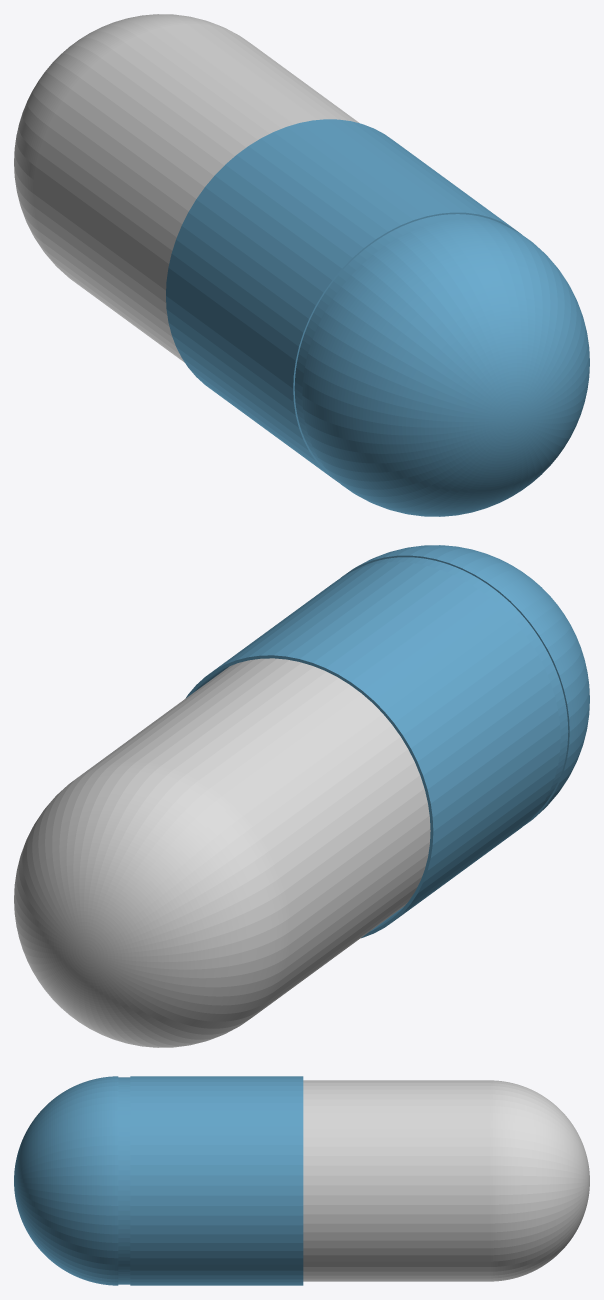
The picture shows the model from 3 angles, top to bottom: view 1: azimuth 30°, elevation 25°; view 2: azimuth 150°, elevation 25°; view 3: azimuth 270°, elevation 25°; orthographic projection. The views are drawn at different scales.
Visible parts, largest first — view 1: capsule_cap, capsule_body; view 2: capsule_body, capsule_cap; view 3: capsule_cap, capsule_body.
Boxes of the visible parts, box(x1,y1,x2,y2) form: capsule_cap: box(166, 119, 589, 516); capsule_body: box(14, 14, 359, 362); capsule_body: box(14, 658, 430, 1047); capsule_cap: box(185, 545, 589, 938); capsule_cap: box(14, 1076, 303, 1285); capsule_body: box(303, 1080, 589, 1281).
Size of the model in its own units: 0.00855 by 0.00855 by 0.0235.
